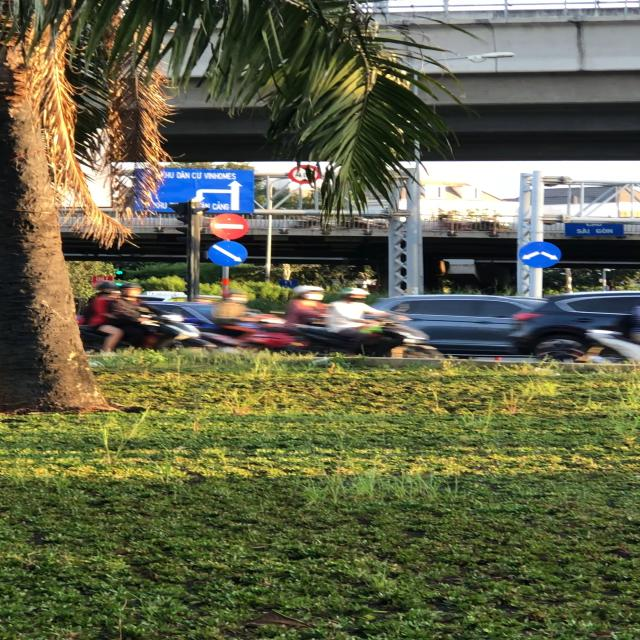Bien bao cam di nguoc chieu: (207, 210, 251, 238)
Bien bao huong phai di vong chuong ngai vat: (516, 239, 564, 270), (206, 240, 250, 269)
